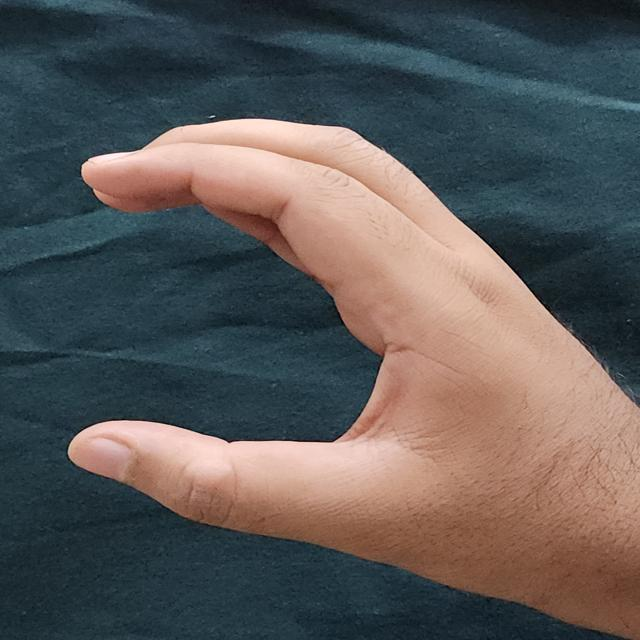پ: (53, 67, 640, 624)
